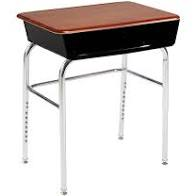desk: (16, 0, 180, 195)
